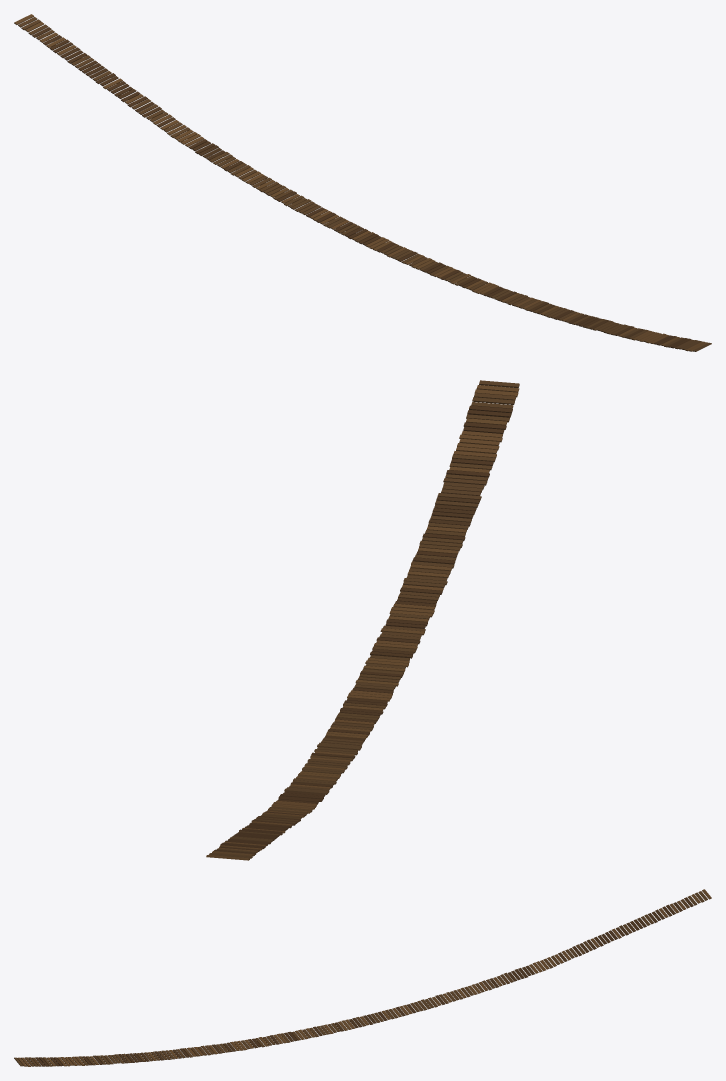
The model's file is SM_Bridge_08_09.fbx.
3 renders of one model, top to bottom at view 1: azimuth 30°, elevation 25°; view 2: azimuth 150°, elevation 25°; view 3: azimuth 270°, elevation 25°, orthographic. The views are drawn at different scales.
Parts seen in each view (by area): view 1: SM_Bridge_08_09; view 2: SM_Bridge_08_09; view 3: SM_Bridge_08_09.
Part boxes in pixels (left/top/right/bottom): SM_Bridge_08_09: left=14, top=14, right=711, bottom=351; SM_Bridge_08_09: left=206, top=380, right=519, bottom=860; SM_Bridge_08_09: left=14, top=889, right=711, bottom=1066.
Size of the model in its own units: 28.64 by 10.11 by 76.47.
